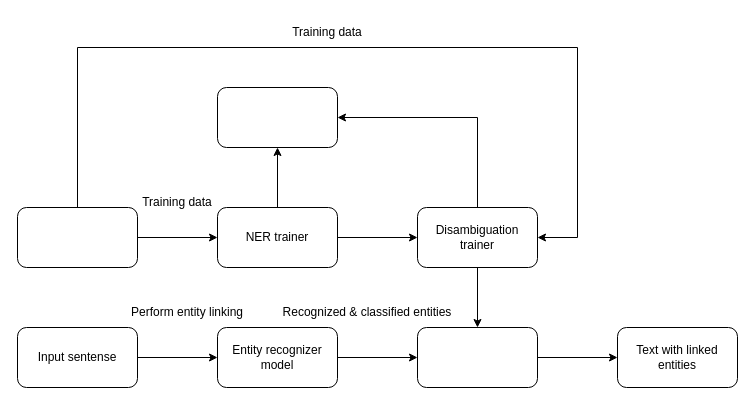
This 755x405 diagram has some shape labels left out. The centre of each missing label's shape, as x and y in pixels:
Disambiguator model: (x=477, y=357)
Metrics: (x=277, y=117)
Training data generation: (x=77, y=237)
